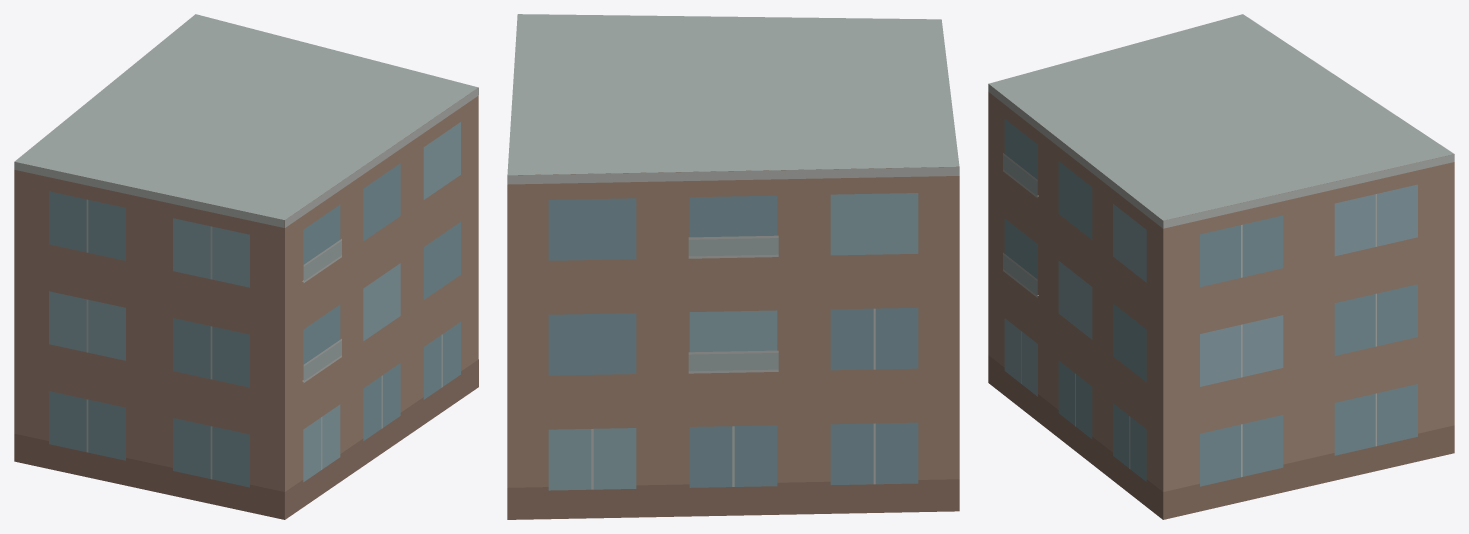
Rendered from survey-upis-32726178.glb.
3 views of the same model, side by side, from view 1: azimuth 30°, elevation 25°; view 2: azimuth 150°, elevation 25°; view 3: azimuth 270°, elevation 25° (orthographic). The views are drawn at different scales.
Visible parts, largest first — view 1: survey-upis-32726178.tmp; view 2: survey-upis-32726178.tmp; view 3: survey-upis-32726178.tmp.
Boxes of the visible parts, left/top/right/bottom form: survey-upis-32726178.tmp: left=14, top=14, right=478, bottom=519; survey-upis-32726178.tmp: left=507, top=14, right=959, bottom=519; survey-upis-32726178.tmp: left=988, top=14, right=1454, bottom=519.
Bounding box in the file's own units: 13.57 × 9.15 × 12.93.
